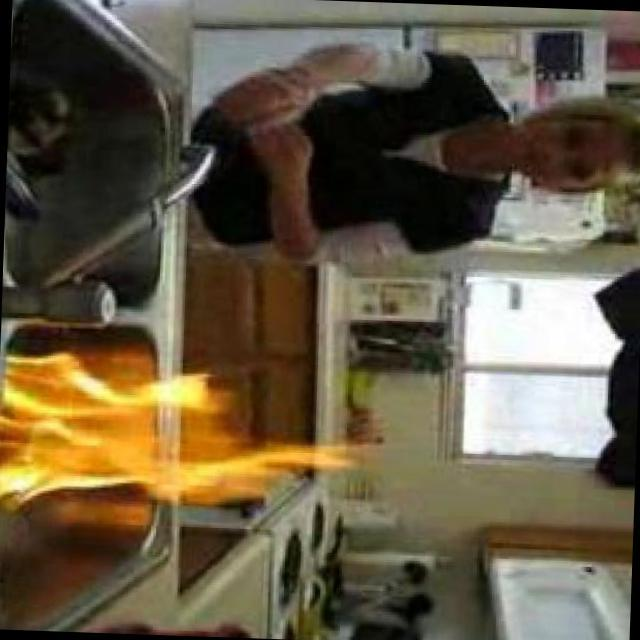Fire: (1, 347, 357, 515)
